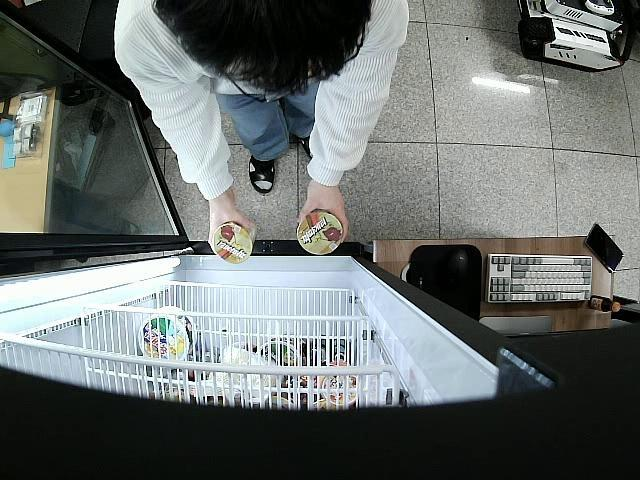04_chapagetti_S: (298, 211, 342, 255), (213, 222, 257, 262)
